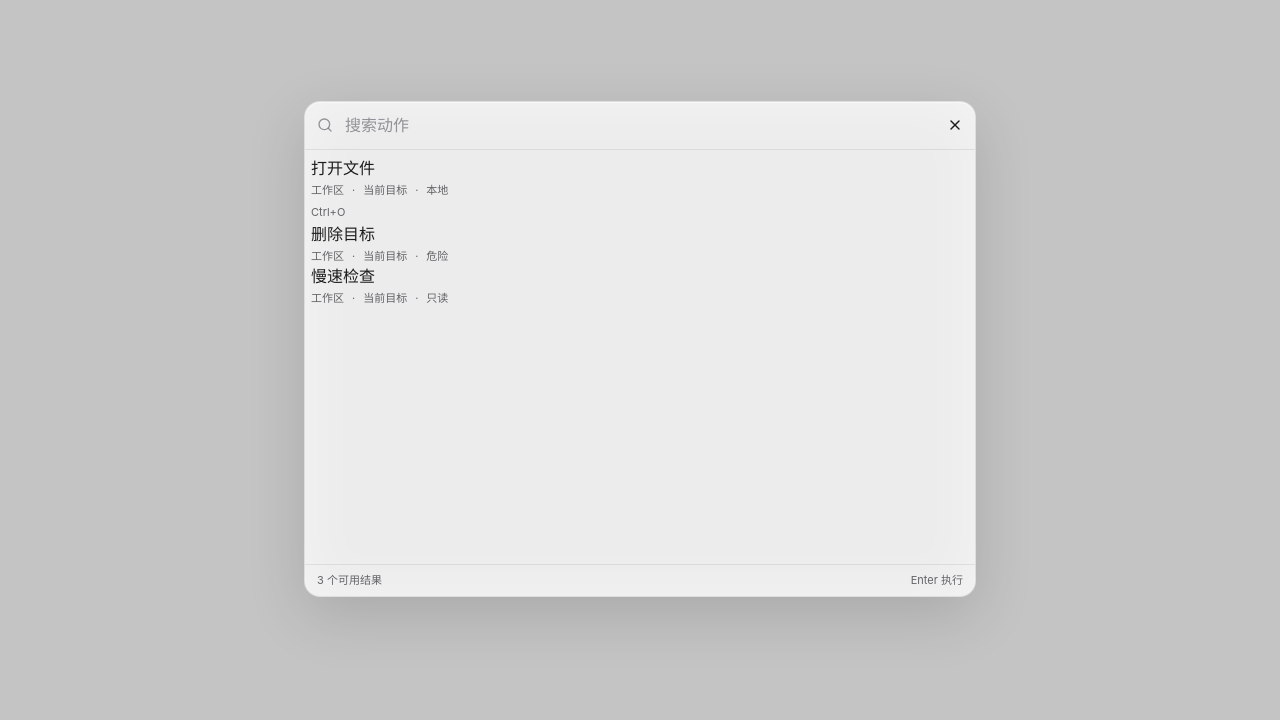
Test: CommandPalette › shows category, scope, effect and keybinding, then routes open-tool
Expected: the text "工作区" in the row of "本地" is shown, top-left (311, 183), bottom-right (344, 197)
Expected: the text "当前目标" next to "本地" is shown, top-left (363, 183), bottom-right (407, 197)
Click the text "打开文件". click: {"x": 343, "y": 168}
box: top-left (311, 158), bottom-right (375, 178)
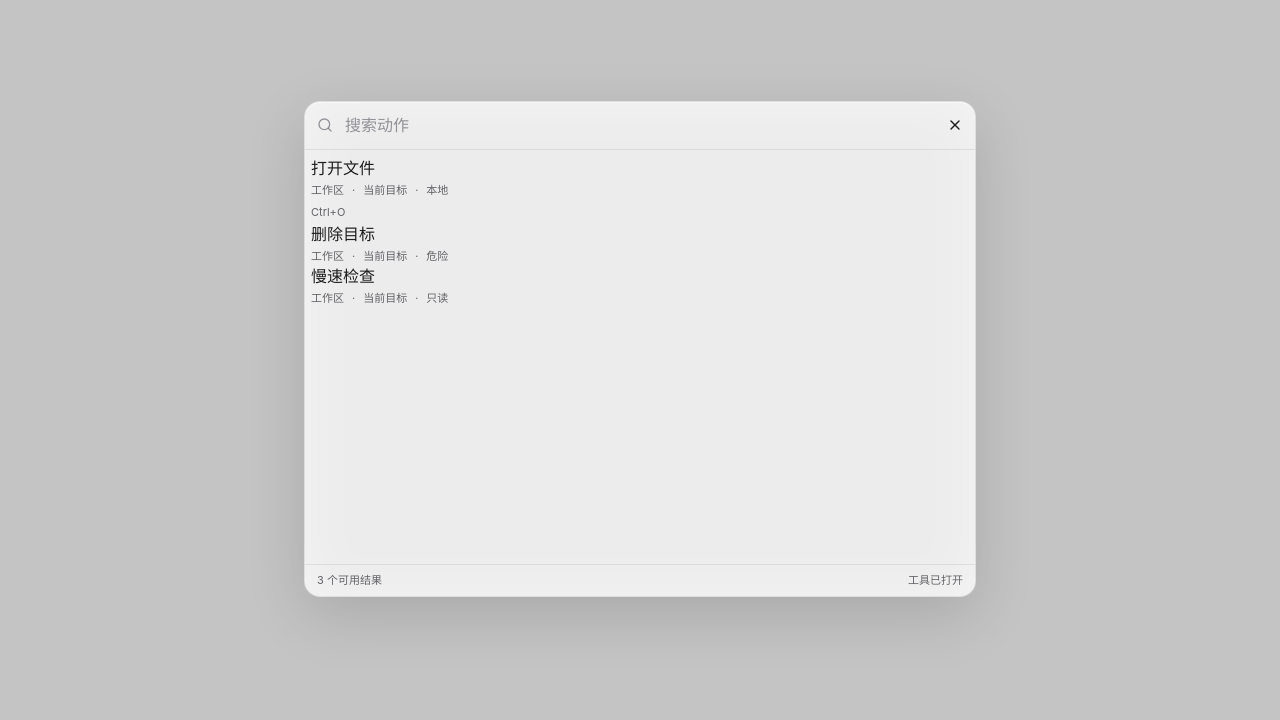
Now the message shows "工具已打开", box top-left (908, 573), bottom-right (963, 587)
